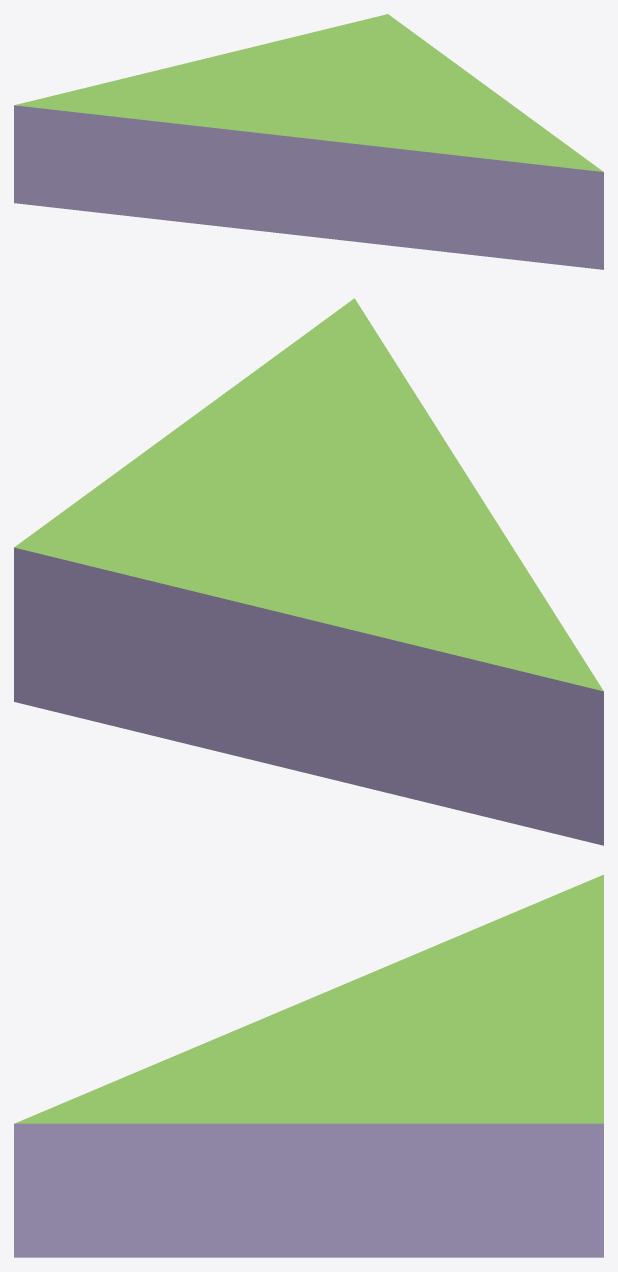
File: Tiered_Grass_45_Degrees_Straight_1x1.glb
3 renders of one model, top to bottom at view 1: azimuth 30°, elevation 25°; view 2: azimuth 150°, elevation 25°; view 3: azimuth 270°, elevation 25°, orthographic. The views are drawn at different scales.
Visible parts, largest first — view 1: Tiered_Grass_45_Degrees_Straight_1x1; view 2: Tiered_Grass_45_Degrees_Straight_1x1; view 3: Tiered_Grass_45_Degrees_Straight_1x1.
Boxes of the visible parts, x1,y1,x2,y2 form: Tiered_Grass_45_Degrees_Straight_1x1: (14, 14, 603, 269); Tiered_Grass_45_Degrees_Straight_1x1: (14, 298, 603, 845); Tiered_Grass_45_Degrees_Straight_1x1: (14, 874, 603, 1257).
Bounding box in the file's own units: 100 × 25 × 100.
